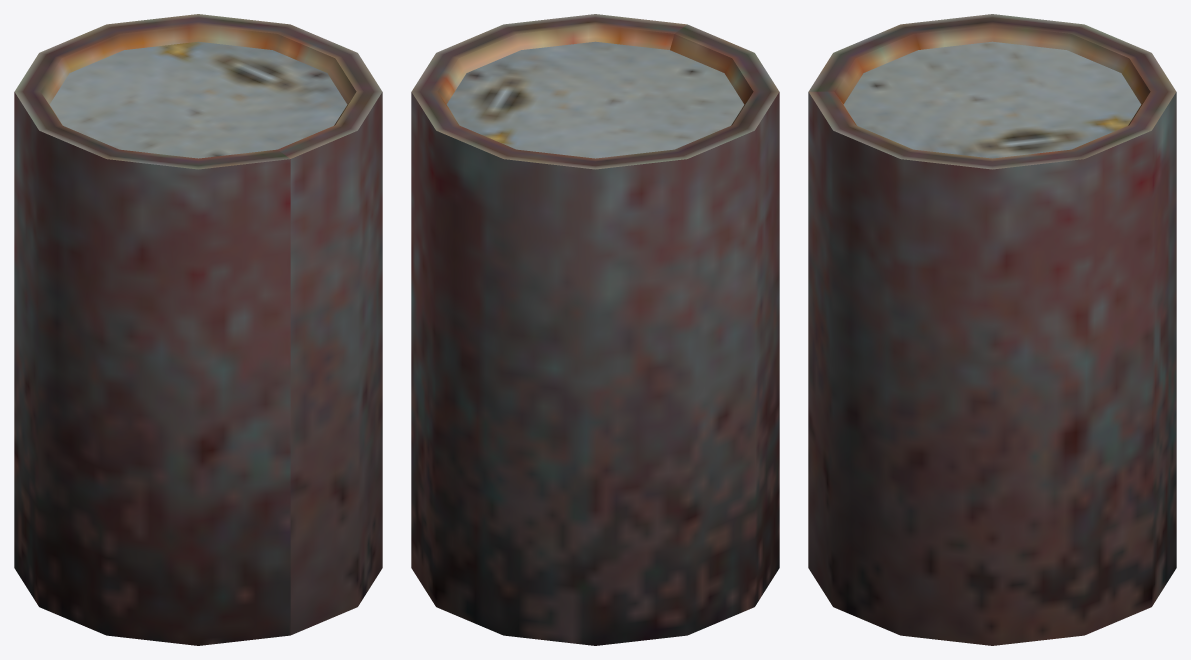
The model's file is SM_SMALLBARREL_05.fbx.
3 renders of one model, left to right at view 1: azimuth 30°, elevation 25°; view 2: azimuth 150°, elevation 25°; view 3: azimuth 270°, elevation 25°, orthographic.
Visible parts, largest first — view 1: SM_SMALLBARREL_05; view 2: SM_SMALLBARREL_05; view 3: SM_SMALLBARREL_05.
Boxes of the visible parts, x1,y1,x2,y2 form: SM_SMALLBARREL_05: [14, 14, 382, 645]; SM_SMALLBARREL_05: [411, 14, 779, 645]; SM_SMALLBARREL_05: [808, 14, 1176, 645].
Size of the model in its own units: 0.7 by 1 by 0.7.
